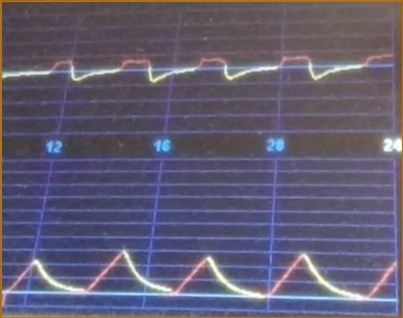Normal Flow: (4, 33, 391, 108)
Normal Volume: (2, 221, 396, 308)
